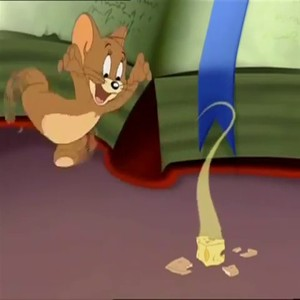Jerry: (8, 15, 158, 170)
